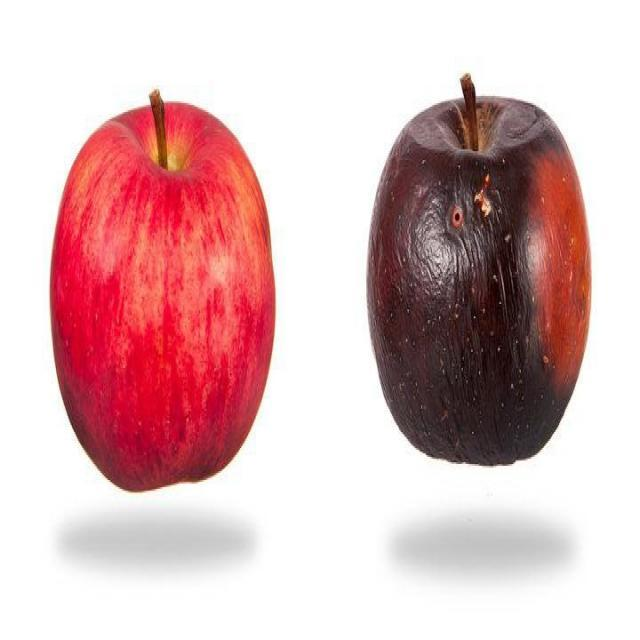Fresh Apple: (43, 97, 267, 493)
Rotten: (363, 119, 592, 464)
